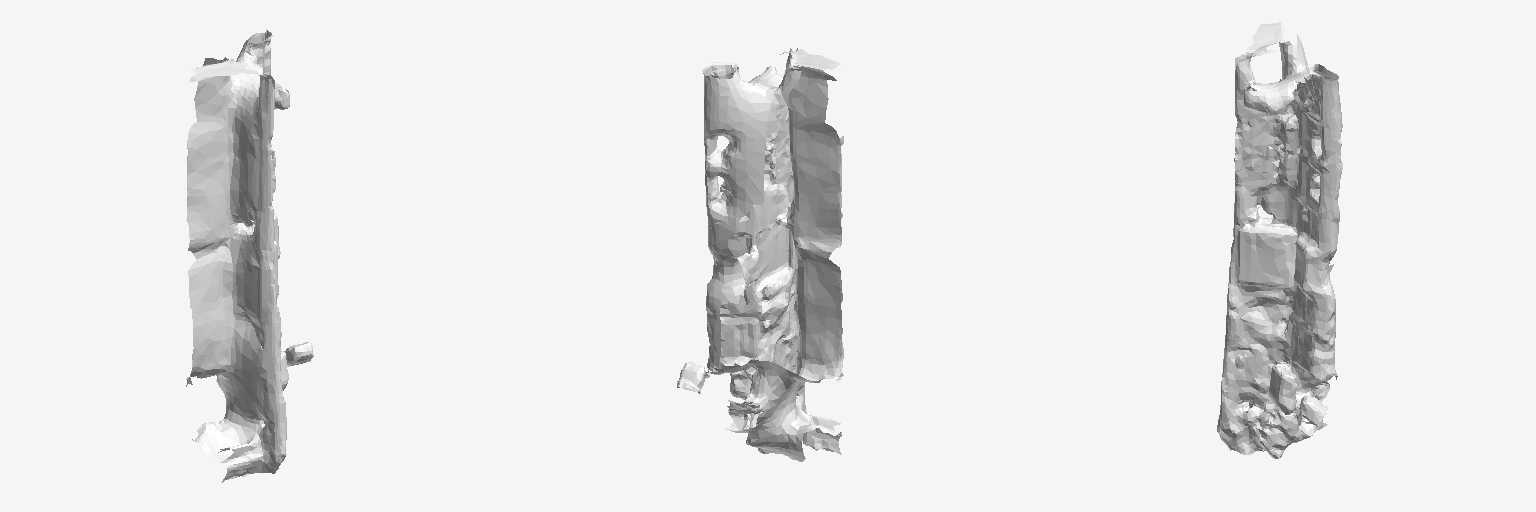
The model's file is eastconsole.obj.
The picture shows the model from 3 angles: view 1: azimuth 30°, elevation 25°; view 2: azimuth 150°, elevation 25°; view 3: azimuth 270°, elevation 25°; orthographic projection.
Parts seen in each view (by area): view 1: default; view 2: default; view 3: default.
Part boxes in pixels (x1,y1,x2,y2): default: (186,30,313,482); default: (677,48,843,461); default: (1217,22,1342,458).
Size of the model in its own units: 1.71 by 4.58 by 1.29.